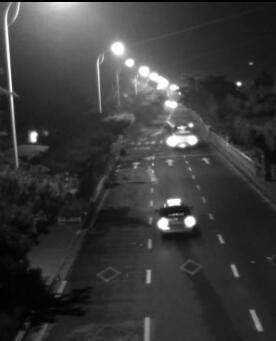bus: (165, 117, 196, 147)
car: (154, 197, 195, 232)
